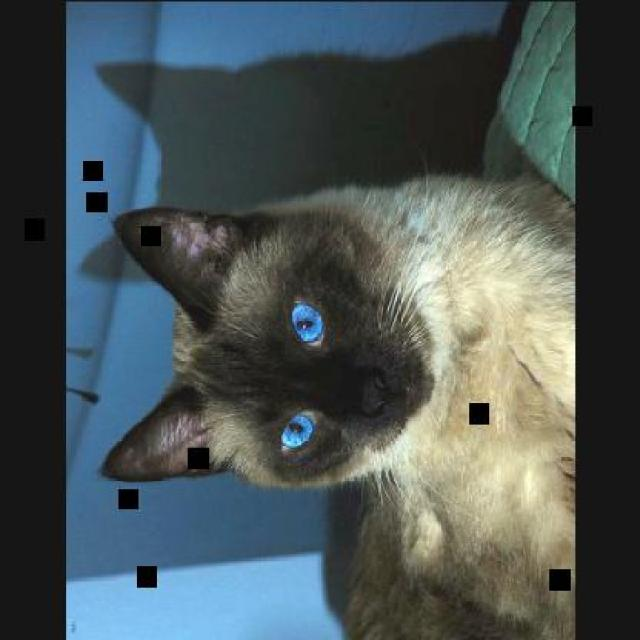unauthorized: (100, 167, 575, 638)
